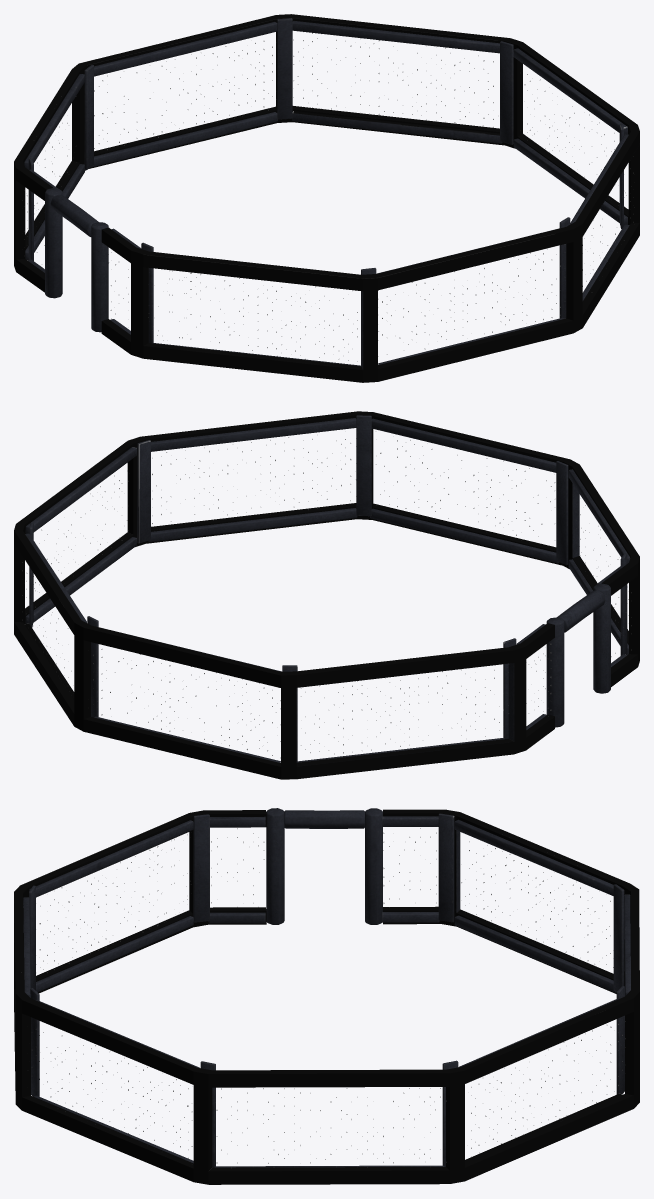
Rendered from OctagonCage.fbx.
3 renders of one model, top to bottom at view 1: azimuth 30°, elevation 25°; view 2: azimuth 150°, elevation 25°; view 3: azimuth 270°, elevation 25°, orthographic. The views are drawn at different scales.
Visible parts, largest first — view 1: OctagonCage; view 2: OctagonCage; view 3: OctagonCage.
Boxes of the visible parts, x1,y1,x2,y2 form: OctagonCage: (14,14,639,382); OctagonCage: (14,411,639,779); OctagonCage: (14,808,639,1184).
Bounding box in the file's own units: 7053 × 1400 × 6995.
1 material, 1 textured.
